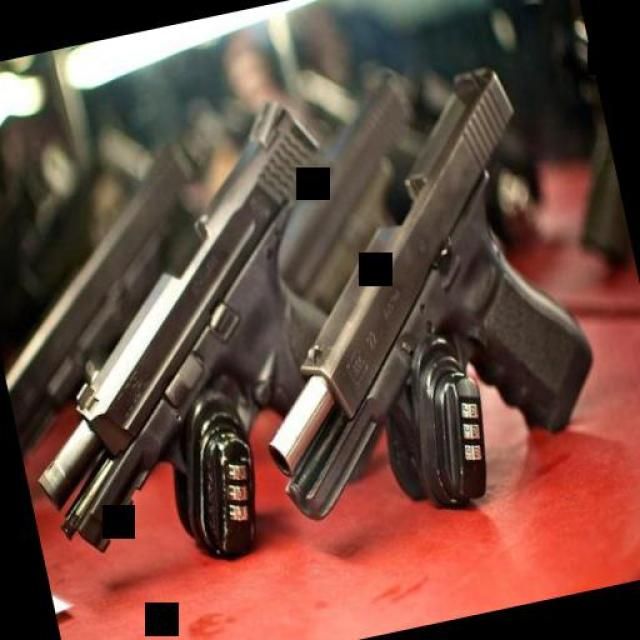gun: (191, 46, 611, 540), (0, 65, 398, 580)
